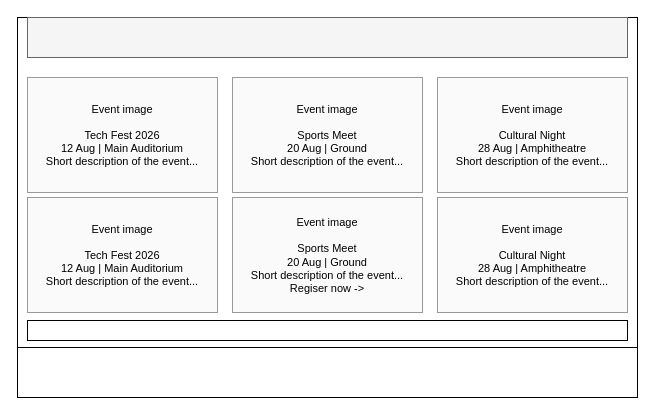
Some shapes in this 655 by 415 pixel diagram are drawn without their labels. Each missing label, with the centre of its shape:
"(Scrollable)" goes at (327,330).
"Footer" goes at (327,372).
"Nav bar: [Logo] Home Dashboard Events Profile Logout" goes at (327,37).
